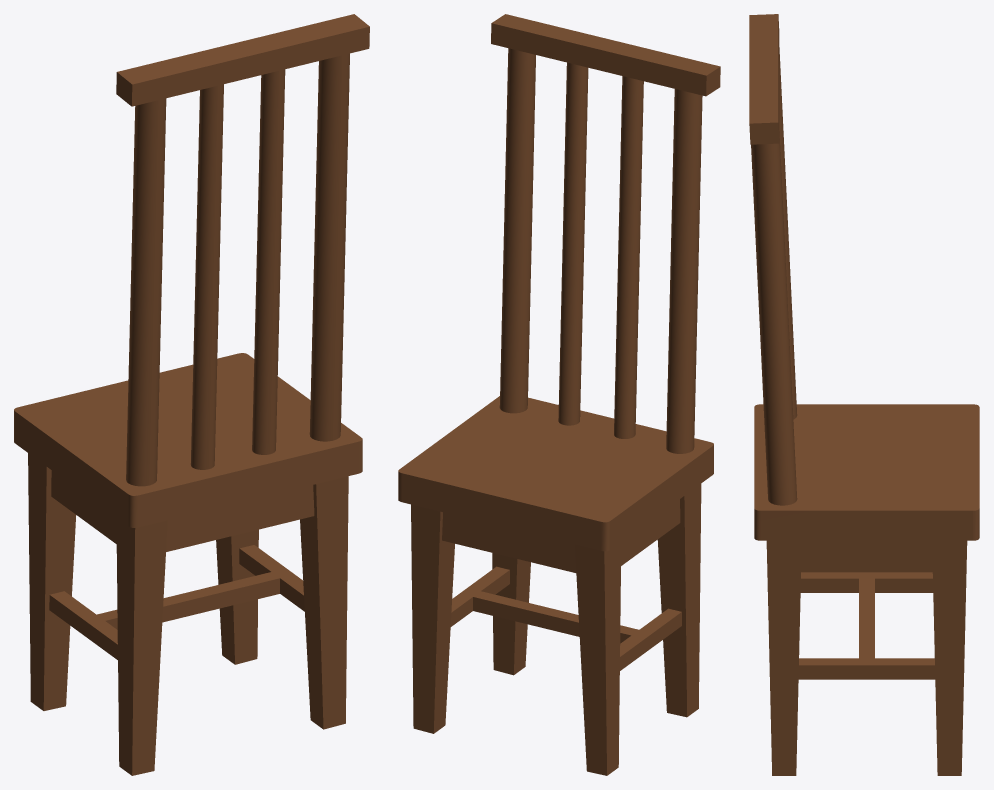
File: Chairs.glb
3 renders of one model, left to right at view 1: azimuth 30°, elevation 25°; view 2: azimuth 150°, elevation 25°; view 3: azimuth 270°, elevation 25°, orthographic. The views are drawn at different scales.
Visible parts, largest first — view 1: BackRestPostCylinder (×4), LegsCube (×4), Seat, BackRestPost, SupportSide (×4), SupportFront; view 2: BackRestPostCylinder (×4), Seat, LegsCube (×4), BackRestPost, SupportSide (×4), SupportFront; view 3: Seat, LegsCube (×2), BackRestPostCylinder (×2), SupportSide (×4), BackRestPost.
Part boxes in pixels (x1,y1,x2,y2): BackRestPostCylinder (×4): [126, 53, 349, 486]; LegsCube (×4): [28, 453, 348, 775]; Seat: [14, 353, 362, 527]; BackRestPost: [116, 14, 369, 106]; SupportSide (×4): [49, 470, 304, 659]; SupportFront: [166, 485, 314, 551]; BackRestPostCylinder (×4): [499, 48, 702, 453]; Seat: [398, 396, 713, 551]; LegsCube (×4): [411, 484, 701, 775]; BackRestPost: [491, 14, 720, 96]; SupportSide (×4): [450, 499, 681, 670]; SupportFront: [442, 512, 576, 572]; Seat: [754, 404, 979, 540]; LegsCube (×2): [766, 540, 967, 775]; BackRestPostCylinder (×2): [751, 47, 797, 505]; SupportSide (×4): [798, 540, 935, 679]; BackRestPost: [749, 14, 779, 144].
Bounding box in the file's own units: 0.388 × 1.1 × 0.3479.
